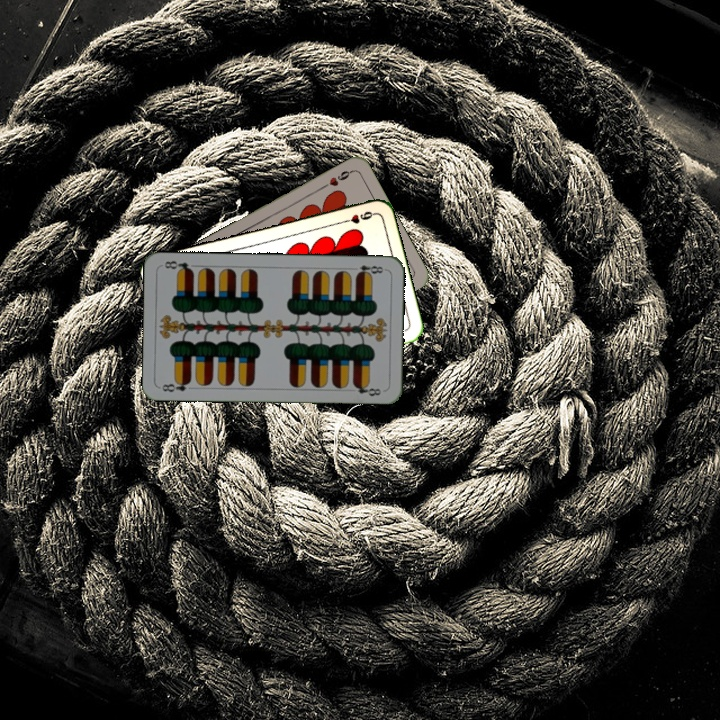E8: (158, 376, 194, 395), (352, 261, 388, 278)
H9: (317, 166, 355, 191), (337, 207, 377, 226)
